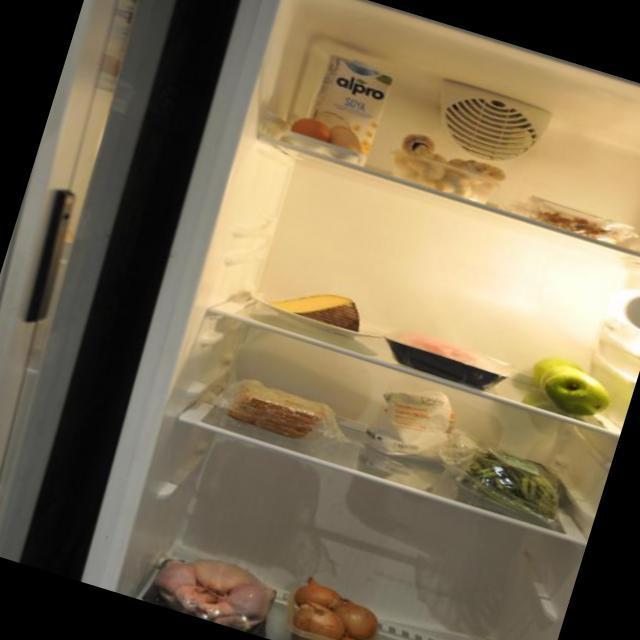Carne pollo: (150, 540, 285, 638)
Cebolla: (277, 563, 400, 640)
Champiñones: (380, 122, 517, 221)
Huevos: (279, 104, 370, 175)
Manzana: (518, 336, 631, 433)
Queso: (252, 268, 385, 362)
bread: (223, 370, 340, 447)
green beans: (444, 435, 583, 531)
meat: (379, 313, 520, 403)
milk: (302, 43, 400, 164)
